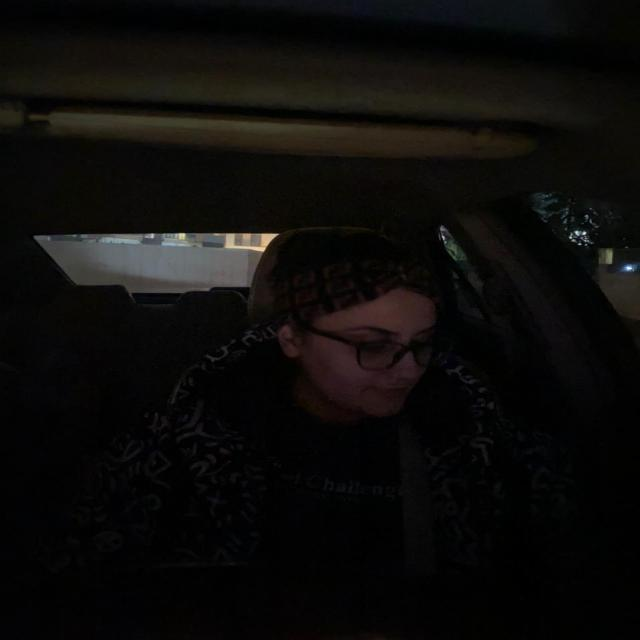drowsy: (245, 224, 447, 422)
